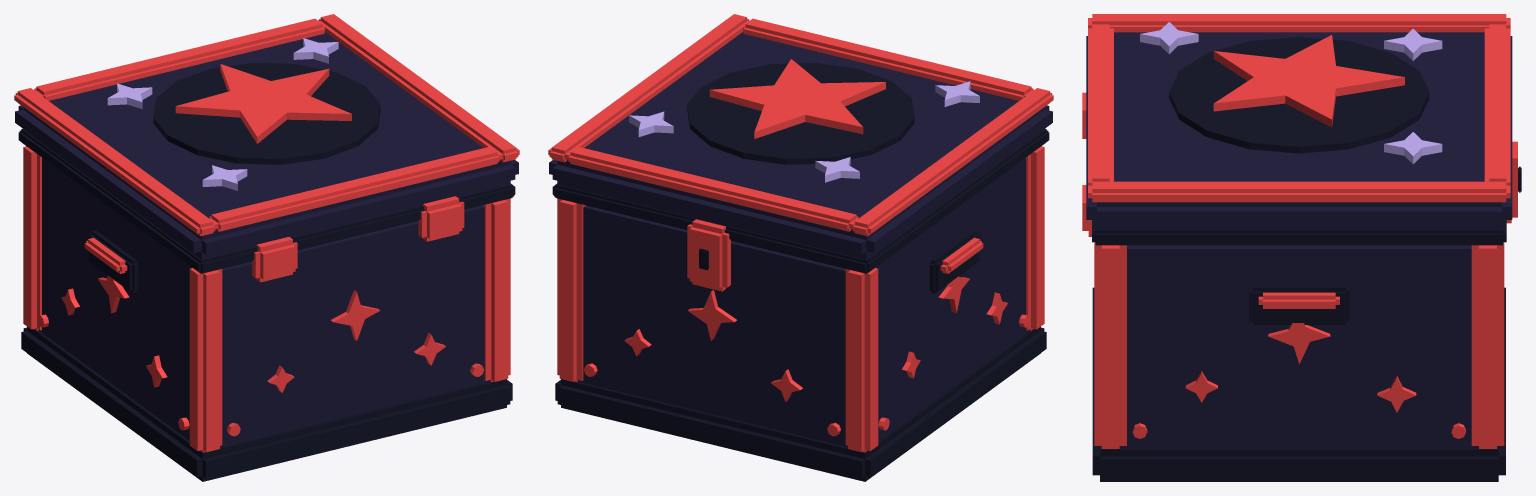
Rendered from crate_cosmica.fbx.
3 views of the same model, side by side, from view 1: azimuth 30°, elevation 25°; view 2: azimuth 150°, elevation 25°; view 3: azimuth 270°, elevation 25° (orthographic). The views are drawn at different scales.
Visible parts, largest first — view 1: crate_cosmica_caixa; view 2: crate_cosmica_caixa; view 3: crate_cosmica_caixa.
Boxes of the visible parts, x1,y1,x2,y2 form: crate_cosmica_caixa: (14, 14, 519, 481); crate_cosmica_caixa: (548, 14, 1053, 481); crate_cosmica_caixa: (1082, 14, 1521, 481).
Bounding box in the file's own units: 2.68 × 2.18 × 2.7.
1 material, 1 textured.
